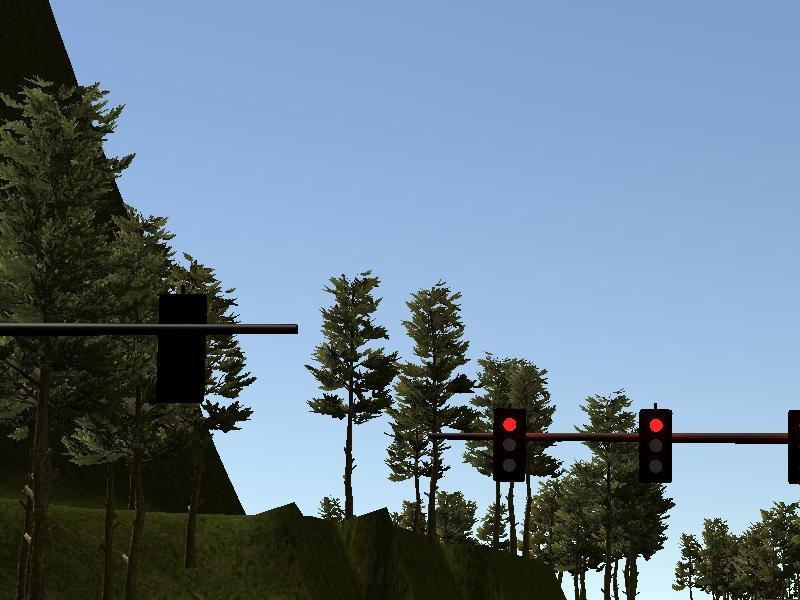Red: (638, 408, 674, 484), (492, 407, 526, 483)
